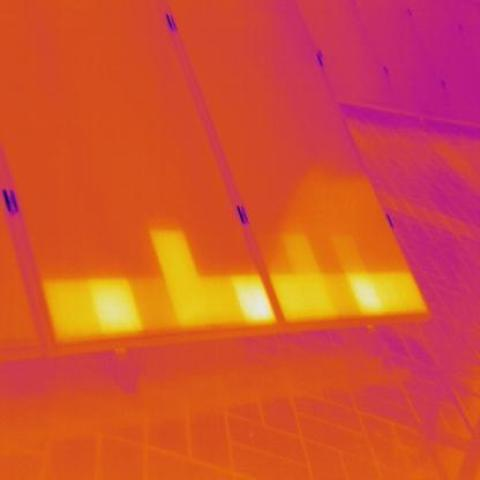fault: (93, 286, 135, 326), (239, 285, 274, 316), (360, 280, 382, 306)
